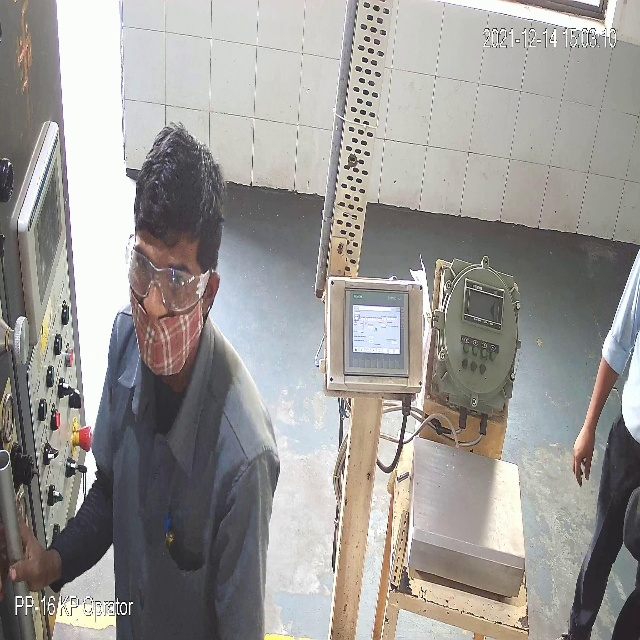Gafas: (124, 248, 207, 315)
